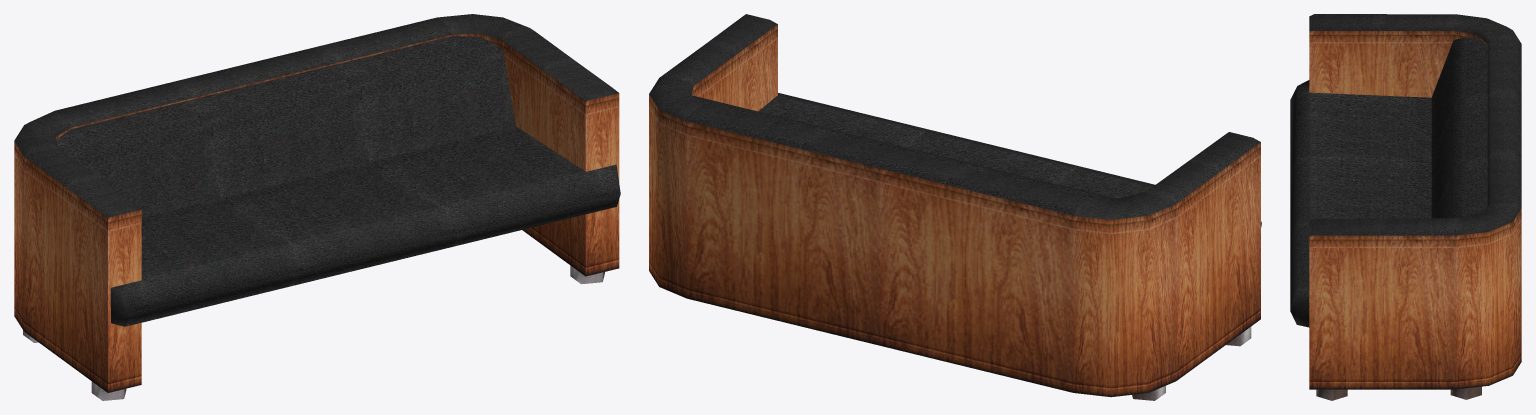
The model's file is blkwoodcouch.fbx.
3 renders of one model, left to right at view 1: azimuth 30°, elevation 25°; view 2: azimuth 150°, elevation 25°; view 3: azimuth 270°, elevation 25°, orthographic. The views are drawn at different scales.
Visible parts, largest first — view 1: mesh_0; view 2: mesh_0; view 3: mesh_0.
Part boxes in pixels (x1,y1,x2,y2): mesh_0: (14,14,620,400); mesh_0: (649,14,1261,400); mesh_0: (1290,14,1521,400).
Bounding box in the file's own units: 204 × 74.17 × 91.23.
1 material, 1 textured.
